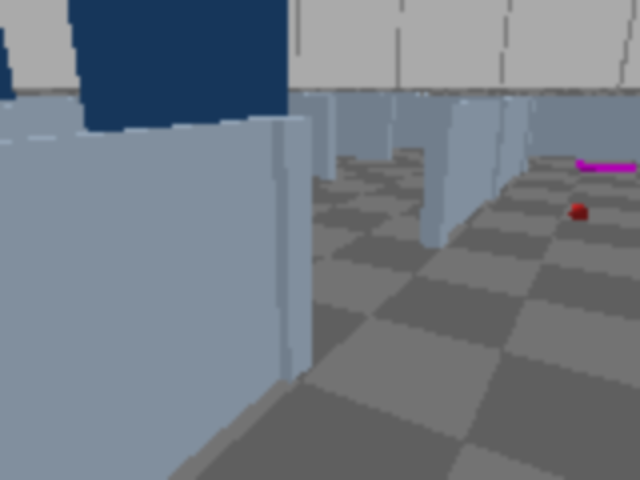goal_zone: (573, 162, 637, 174)
person: (0, 0, 276, 317), (0, 0, 27, 199)
puck: (568, 202, 591, 224)
